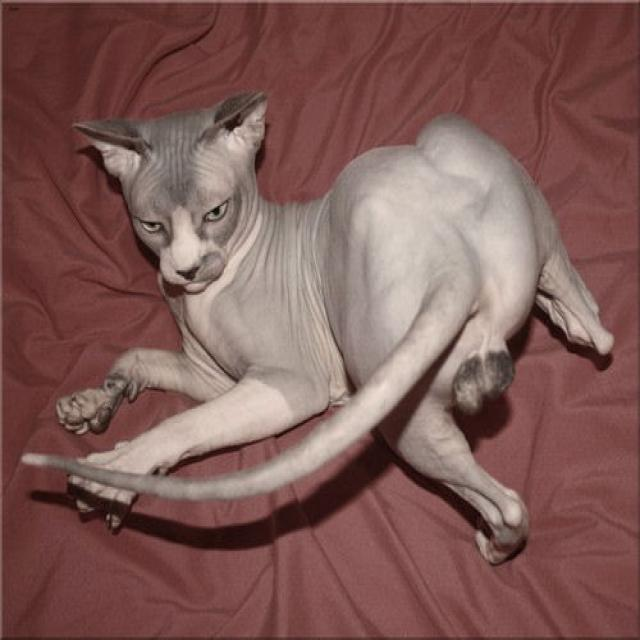Sphynx: (69, 88, 271, 294)
